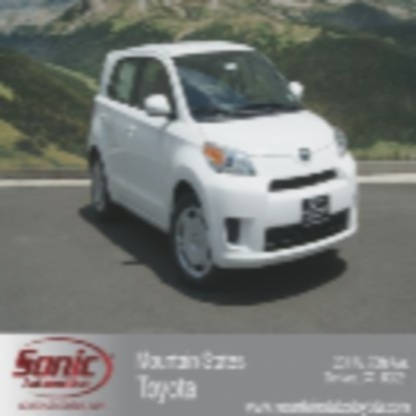Vehicle: (87, 40, 360, 291)
